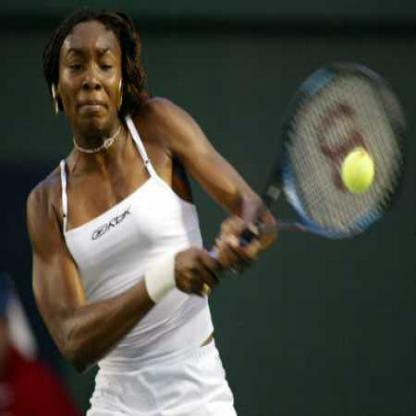face: (59, 14, 124, 137)
